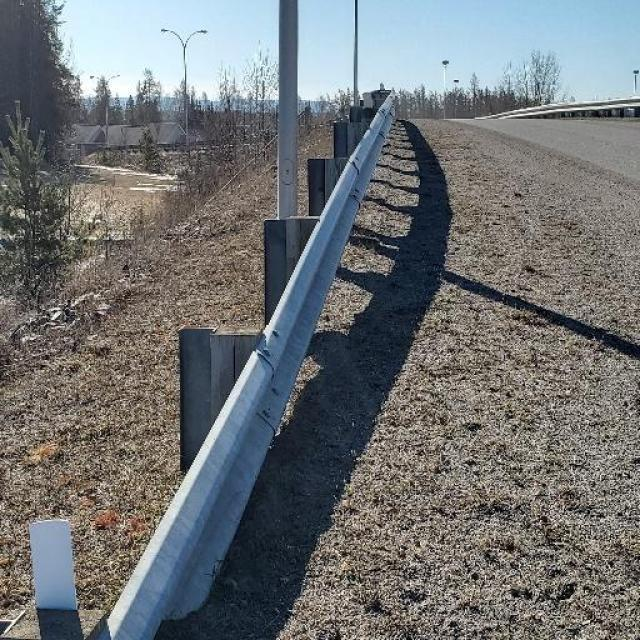Guard rail: (0, 79, 403, 640)
